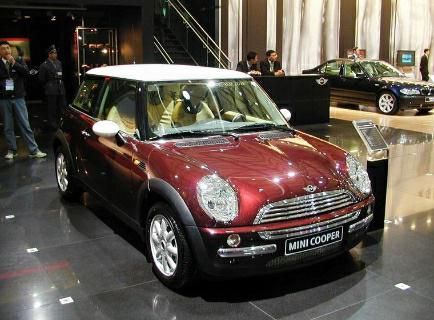MINI: (50, 58, 381, 287)
